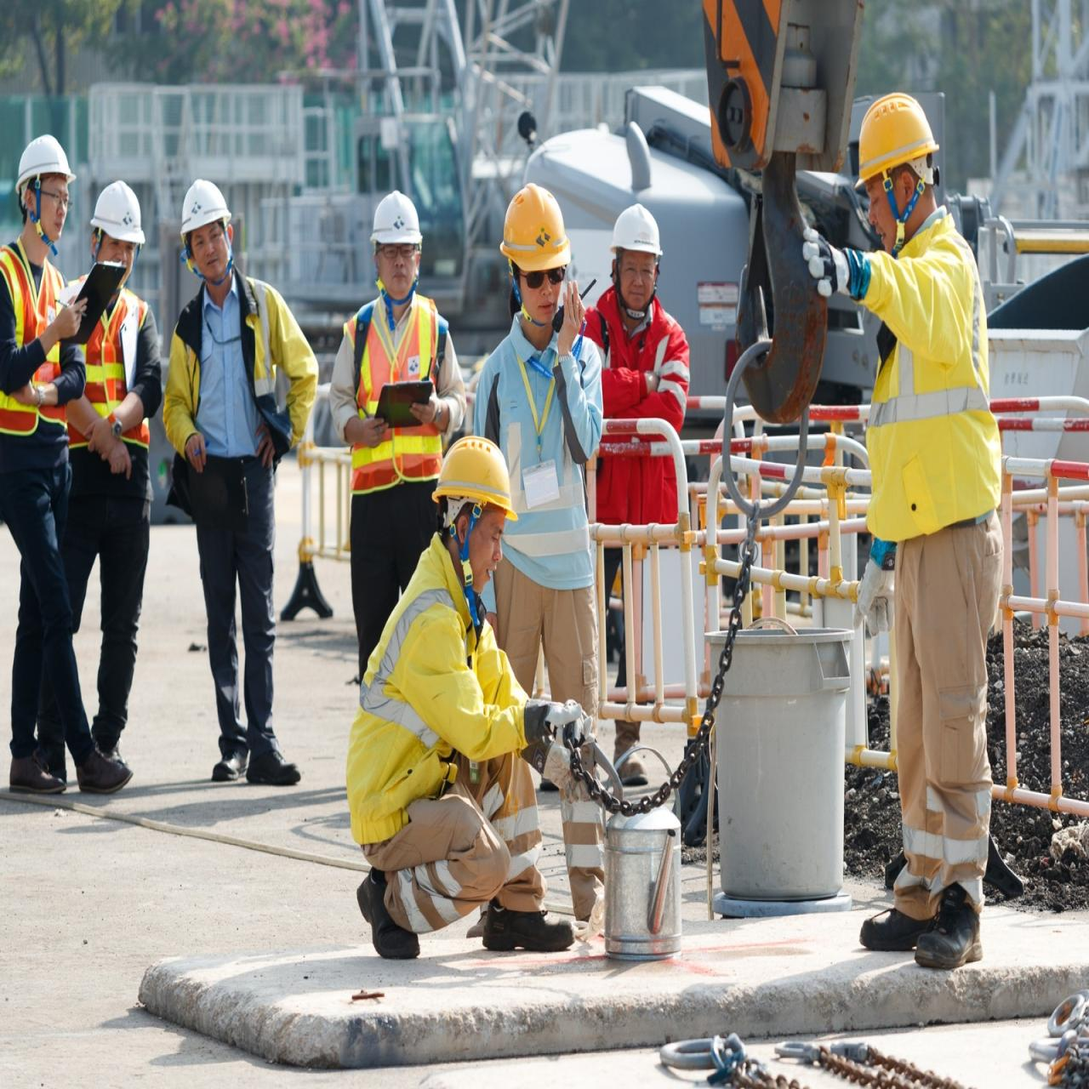NO_Safety_Vest: (351, 534, 530, 845), (852, 223, 993, 542), (484, 327, 592, 594), (173, 279, 300, 475), (578, 303, 687, 523)
Person: (793, 92, 1001, 941), (320, 422, 562, 968), (148, 155, 329, 801), (466, 169, 611, 933), (325, 184, 477, 698), (50, 172, 165, 805), (0, 120, 100, 813), (578, 190, 694, 663)
Safety_Vest: (338, 298, 444, 500), (59, 272, 147, 456), (0, 242, 70, 438)
